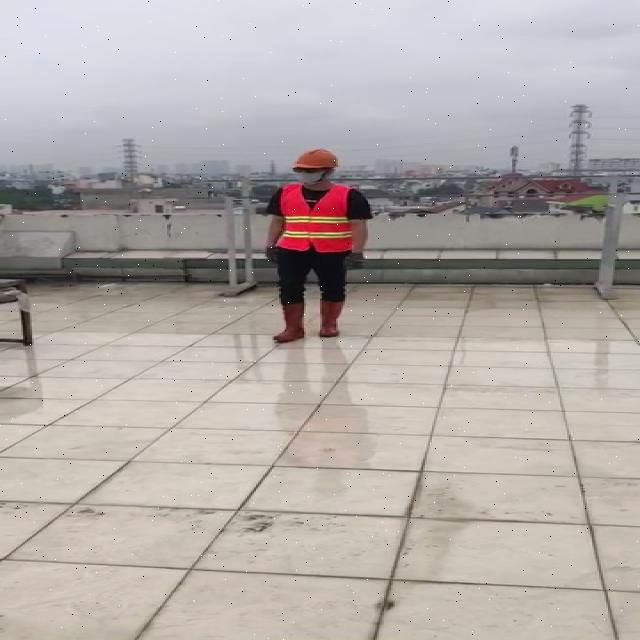Hard_hat: (289, 144, 345, 175)
Person: (255, 141, 380, 355)
Vest: (279, 182, 358, 254)
